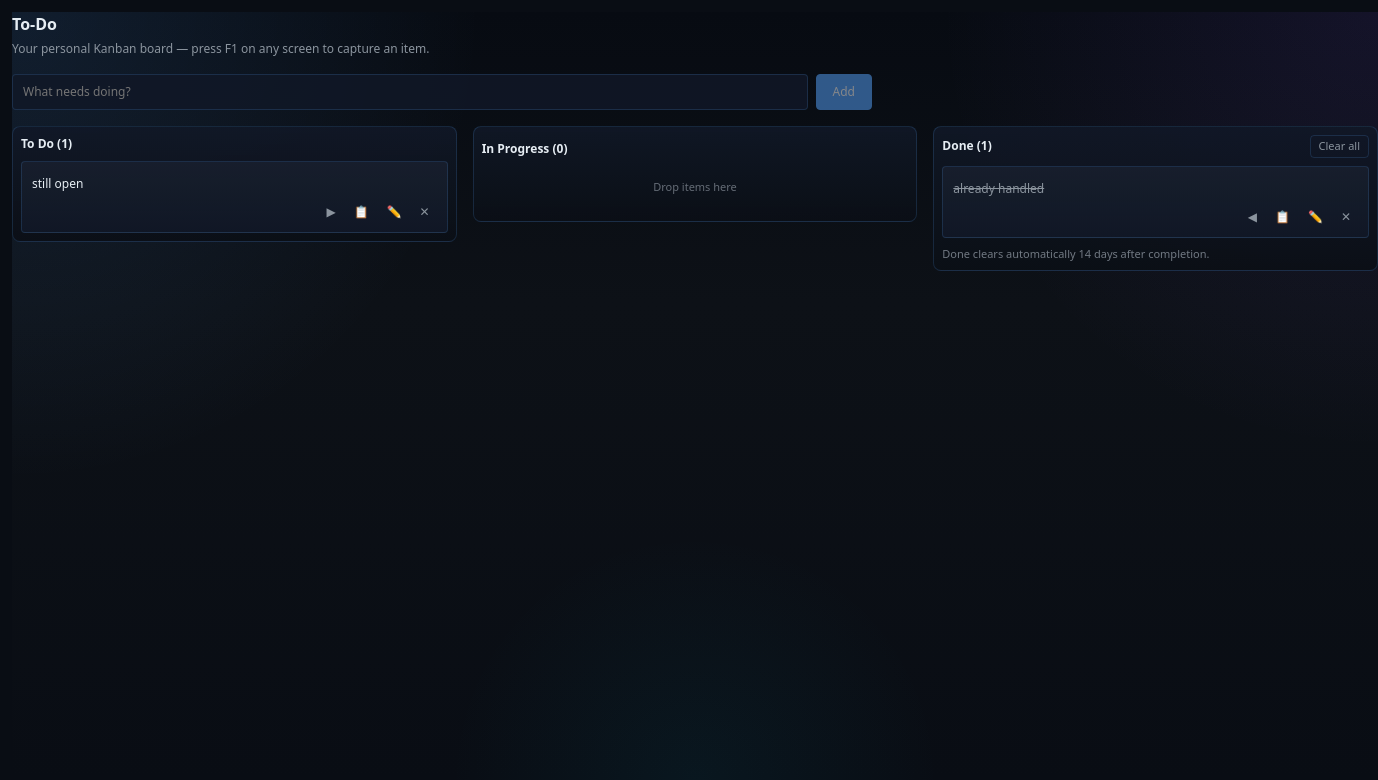
TodoTab › counts items per column and clears the whole Done column in one action
Check: the text "To Do (1)" is shown, box [21, 135, 72, 153]
Check: the text "Done (1)" is shown, box [942, 137, 992, 155]
Click the button "Clear all" at (1339, 146), box [1310, 135, 1369, 158]
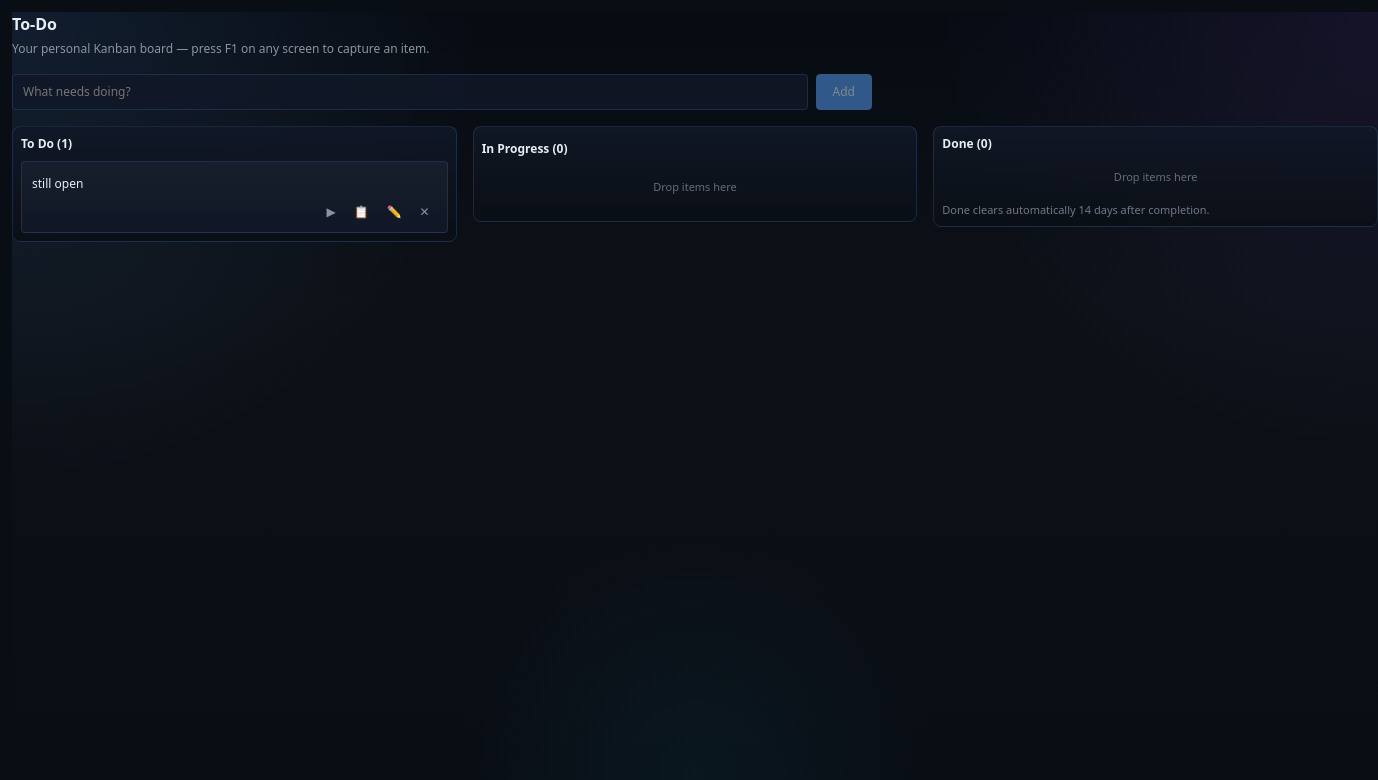
Check: the button "already handled" is gone
